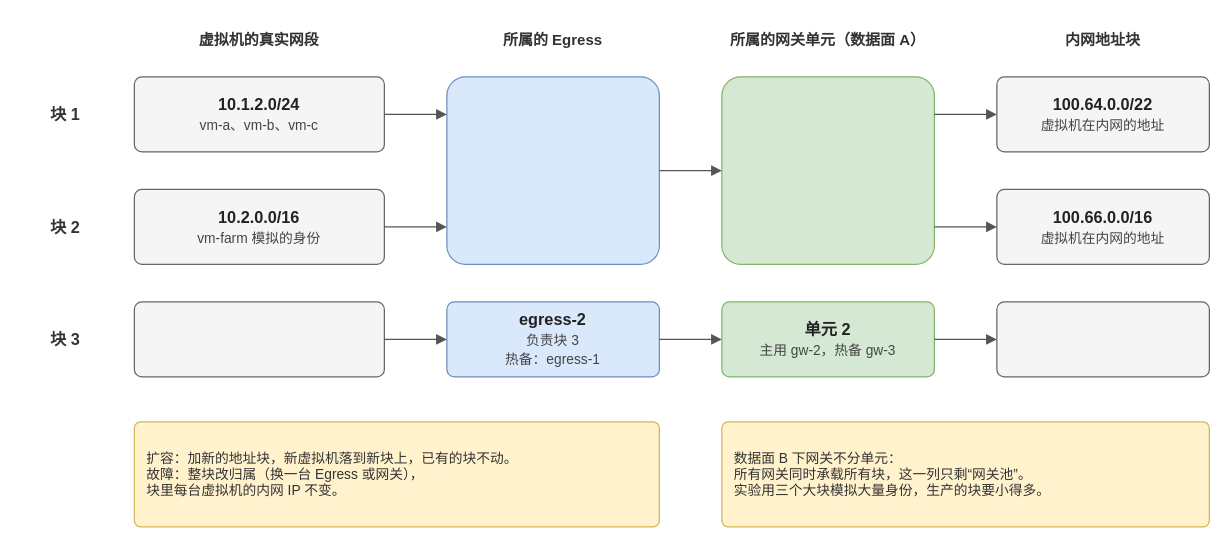
This 1231x549 diagram has some shape labels left out. Each missing label, with the centre of its shape:
"10.3.0.0/16 vm-farm 模拟的身份" goes at pixel 258 339.
"100.67.0.0/16 虚拟机在内网的地址" goes at pixel 1102 339.
"egress-1 负责块 1、块 2 热备：egress-2" goes at pixel 552 170.
"单元 1 主用 gw-1 热备 gw-3" goes at pixel 827 170.
